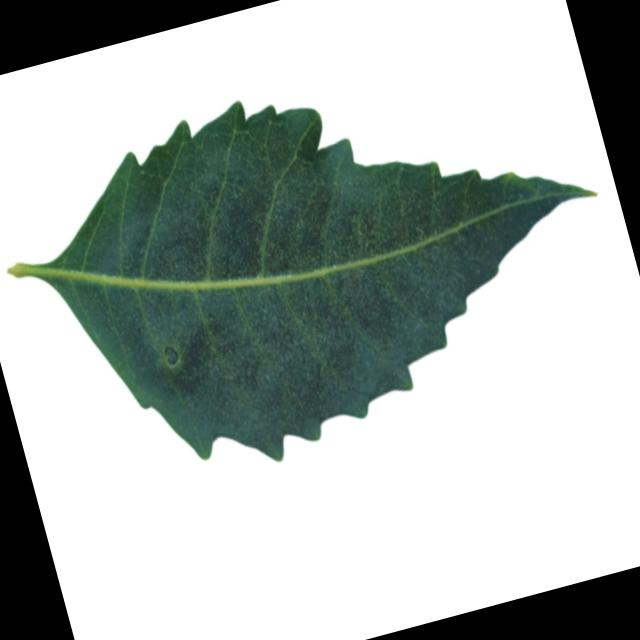Medicinal-Neem: (0, 17, 640, 514)
